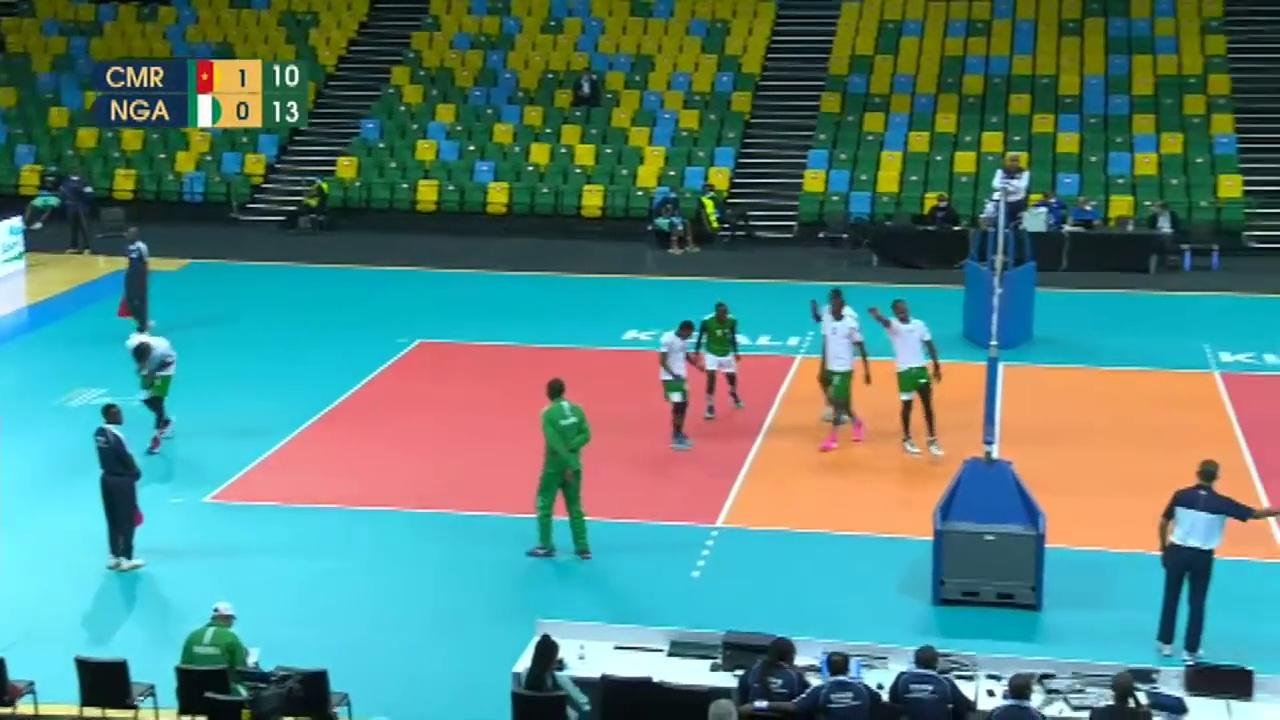player: (878, 300, 946, 452), (810, 286, 866, 426), (819, 299, 866, 452), (697, 296, 745, 417), (133, 333, 176, 453), (659, 321, 697, 454)
refree: (1152, 458, 1278, 666), (95, 402, 148, 570), (992, 151, 1034, 257), (120, 226, 150, 346)
